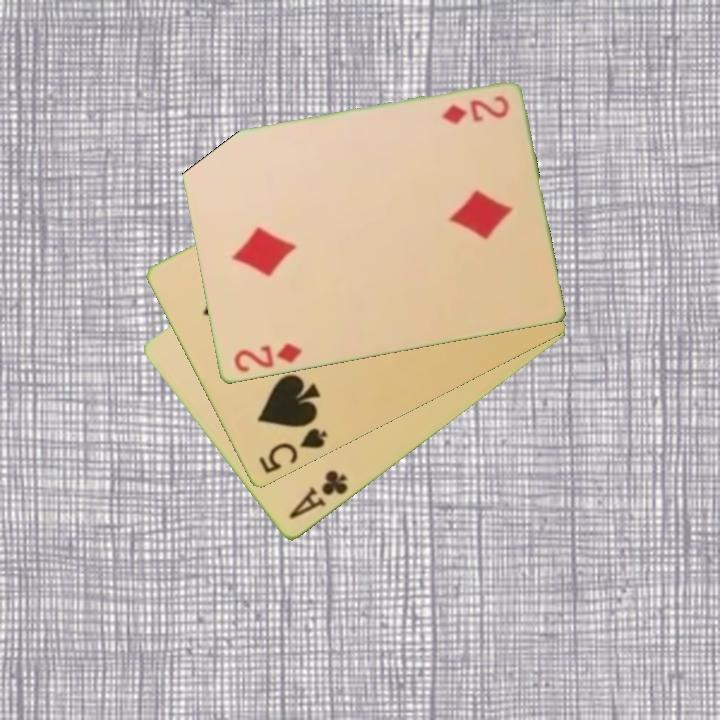2d: (230, 341, 304, 376), (438, 93, 512, 128)
5s: (255, 425, 331, 478)
Ac: (284, 466, 351, 523)
